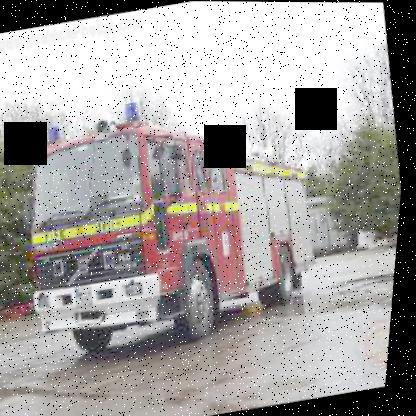emergency: (0, 67, 377, 402)
